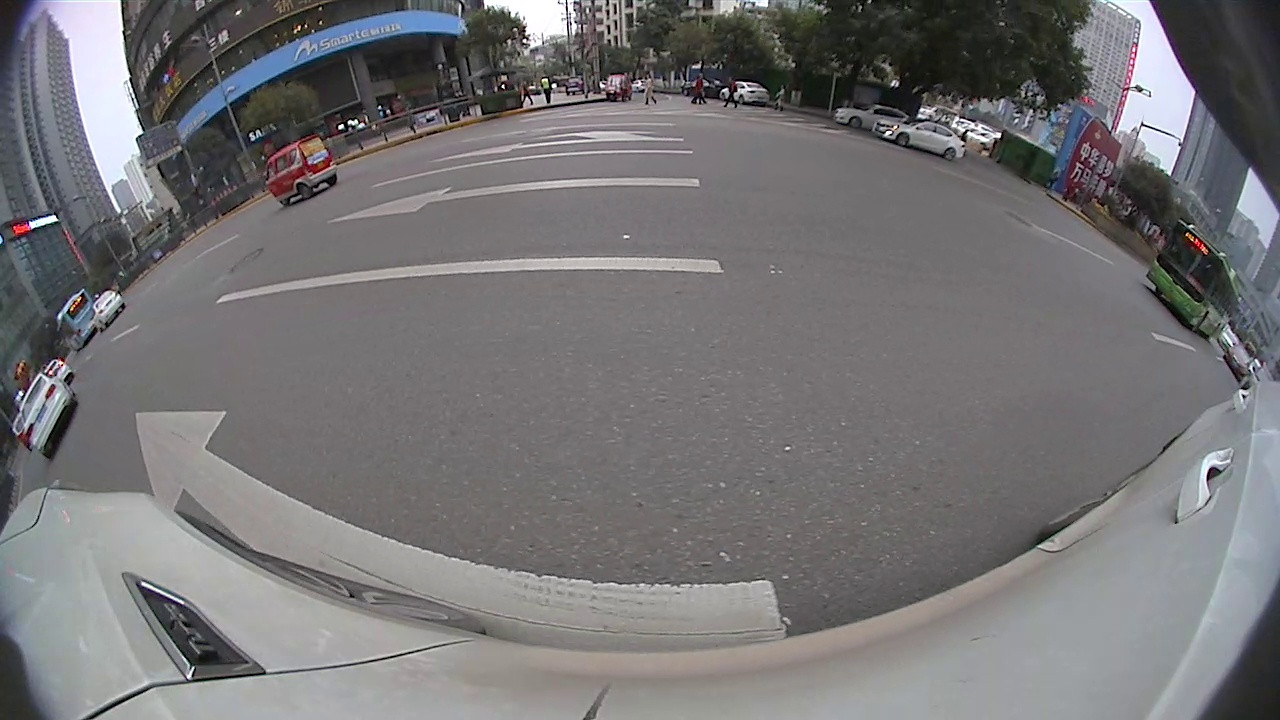bus: (1143, 215, 1240, 343), (53, 288, 94, 353)
car: (16, 369, 79, 463), (873, 119, 968, 162), (833, 102, 913, 133), (89, 289, 127, 333), (1224, 338, 1257, 381), (40, 358, 75, 385)
front: (849, 116, 866, 133), (895, 133, 912, 150)
rear: (296, 180, 316, 200), (942, 147, 959, 164)
rider: (264, 133, 339, 205)
